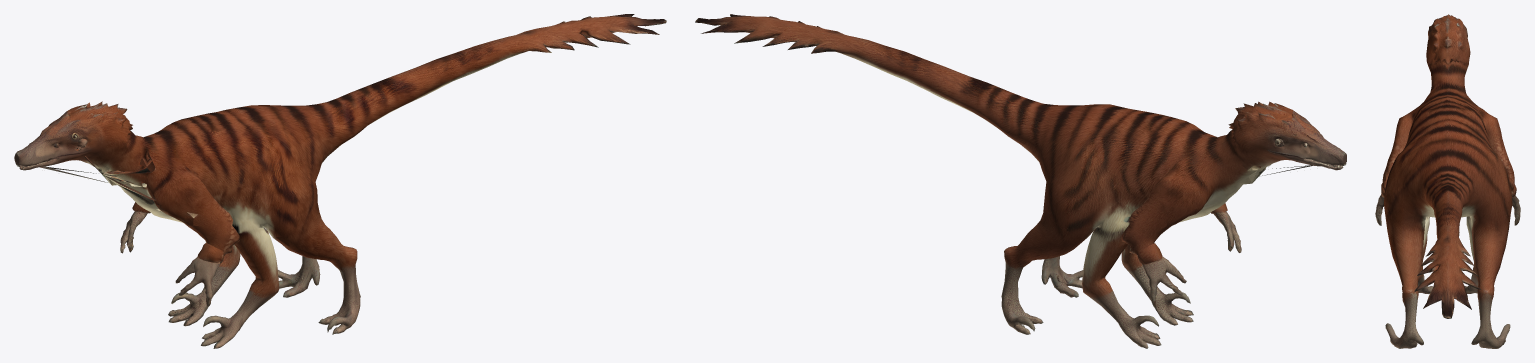
Rendered from utahraptor_i2m_v1.glb.
3 views of the same model, side by side, from view 1: azimuth 30°, elevation 25°; view 2: azimuth 150°, elevation 25°; view 3: azimuth 270°, elevation 25° (orthographic). The views are drawn at different scales.
Parts seen in each view (by area): view 1: Mesh_0; view 2: Mesh_0; view 3: Mesh_0.
Part boxes in pixels (bbox=[...]): Mesh_0: bbox=[14, 14, 666, 348]; Mesh_0: bbox=[695, 14, 1346, 348]; Mesh_0: bbox=[1375, 14, 1520, 348].
Size of the model in its own units: 1.32 by 0.5 by 0.2879.
1 material, 1 textured.
